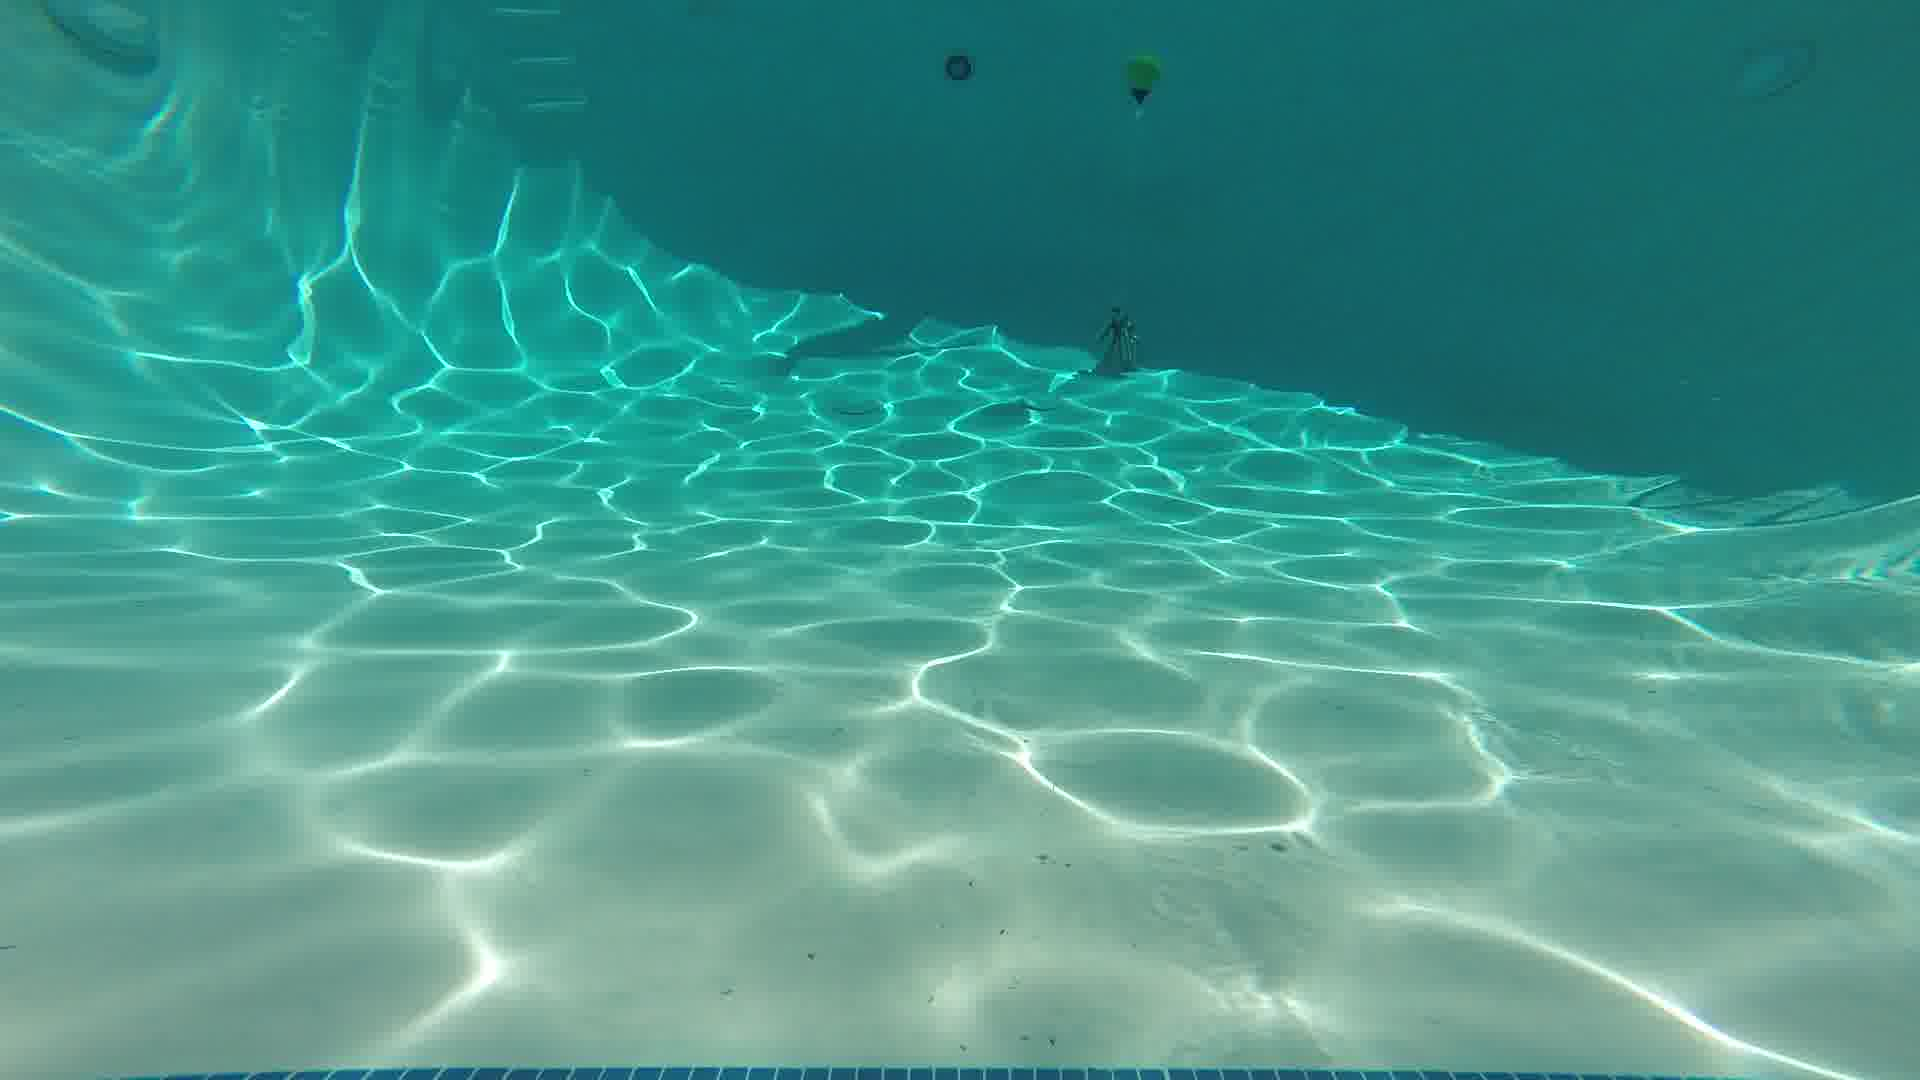yellow buoy: (1116, 50, 1164, 117)
